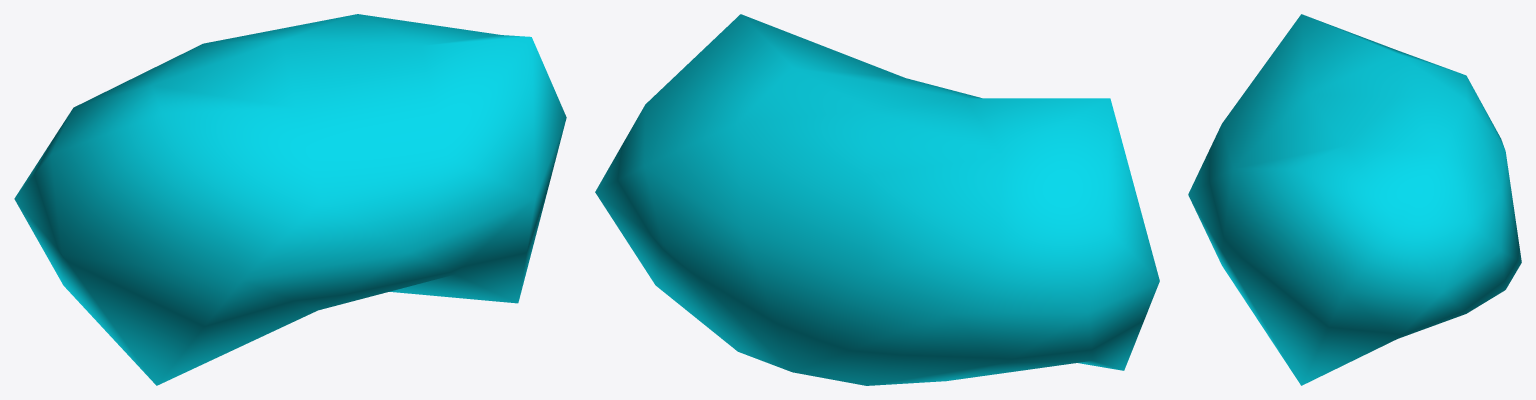
The model's file is MidShip.fbx.
The picture shows the model from 3 angles, left to right: view 1: azimuth 30°, elevation 25°; view 2: azimuth 150°, elevation 25°; view 3: azimuth 270°, elevation 25°; orthographic projection. The views are drawn at different scales.
Visible parts, largest first — view 1: Shield.003; view 2: Shield.003; view 3: Shield.003.
Part boxes in pixels (bbox=[...]): Shield.003: bbox=[14, 14, 566, 385]; Shield.003: bbox=[595, 14, 1159, 385]; Shield.003: bbox=[1188, 14, 1521, 385].
Bounding box in the file's own units: 19.63 × 13.6 × 10.27.
